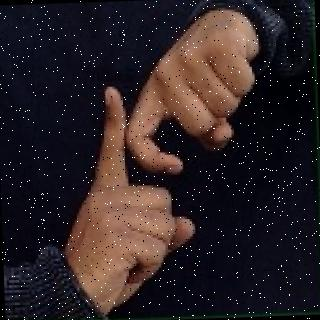K: (62, 0, 255, 320)
